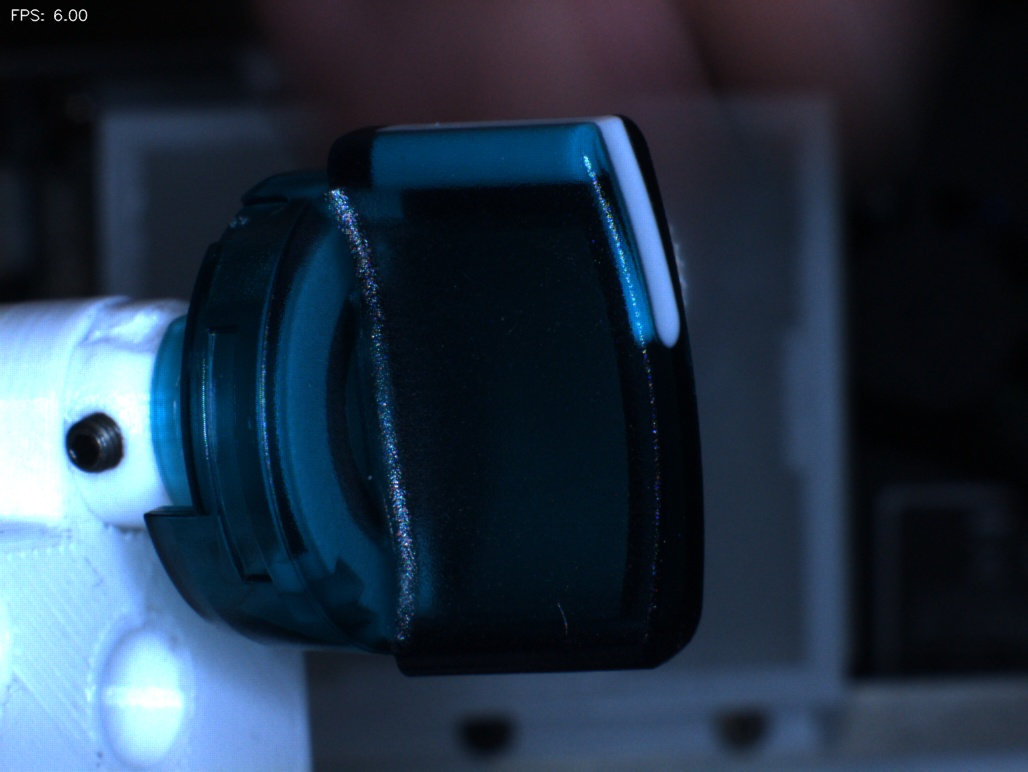Givrage: (534, 588, 591, 661)
